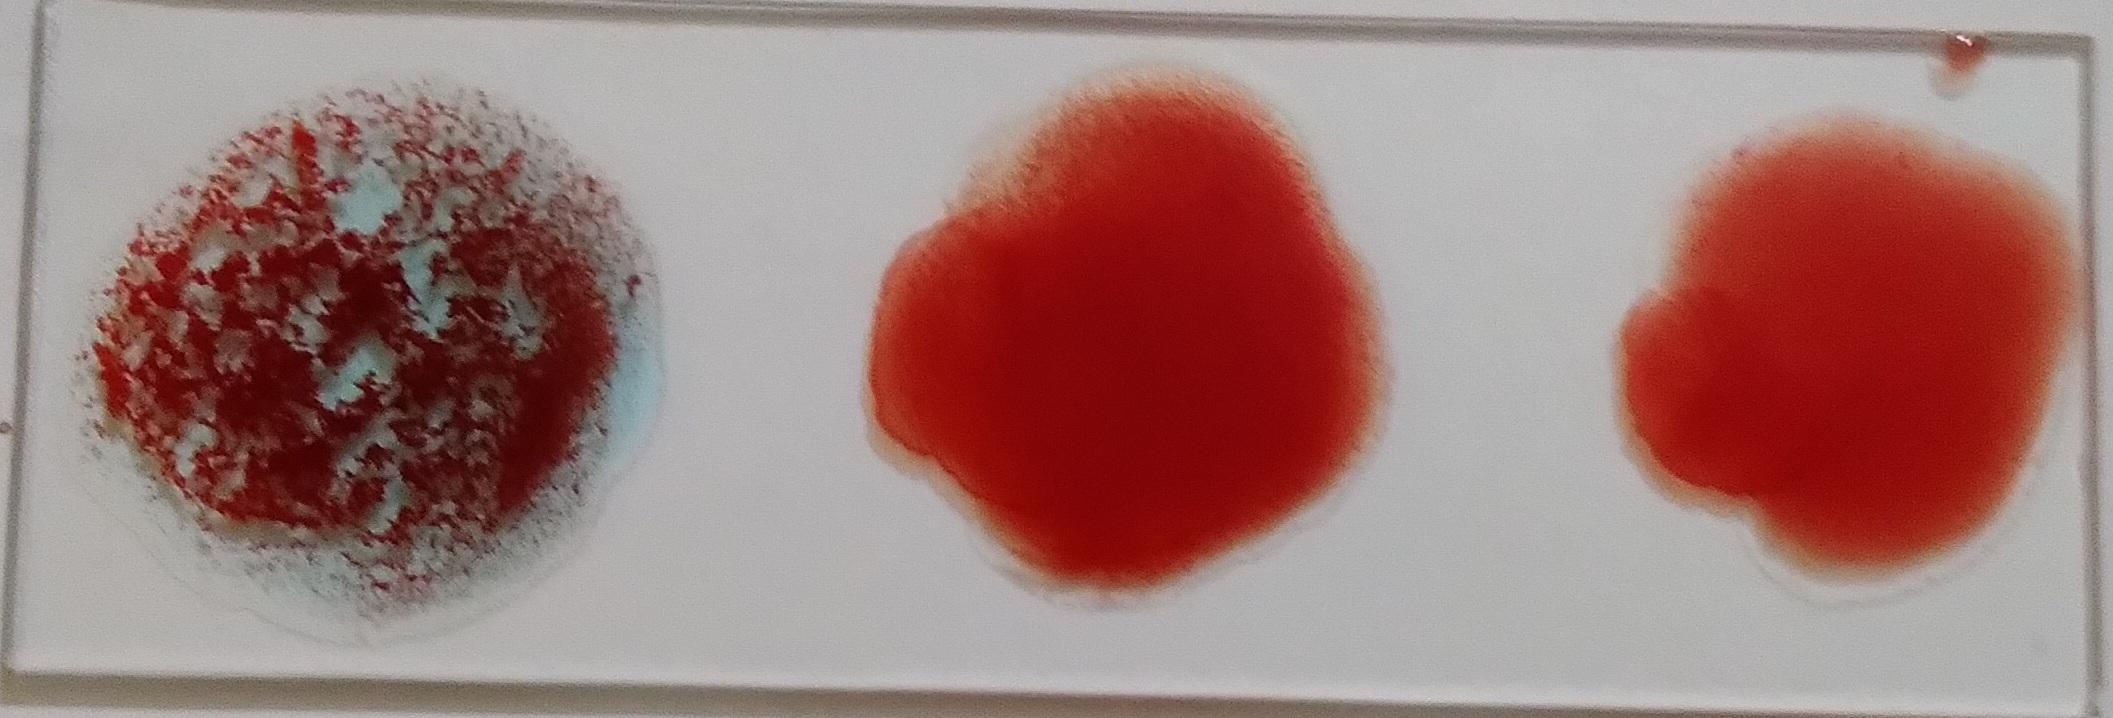A: (86, 74, 636, 647)
